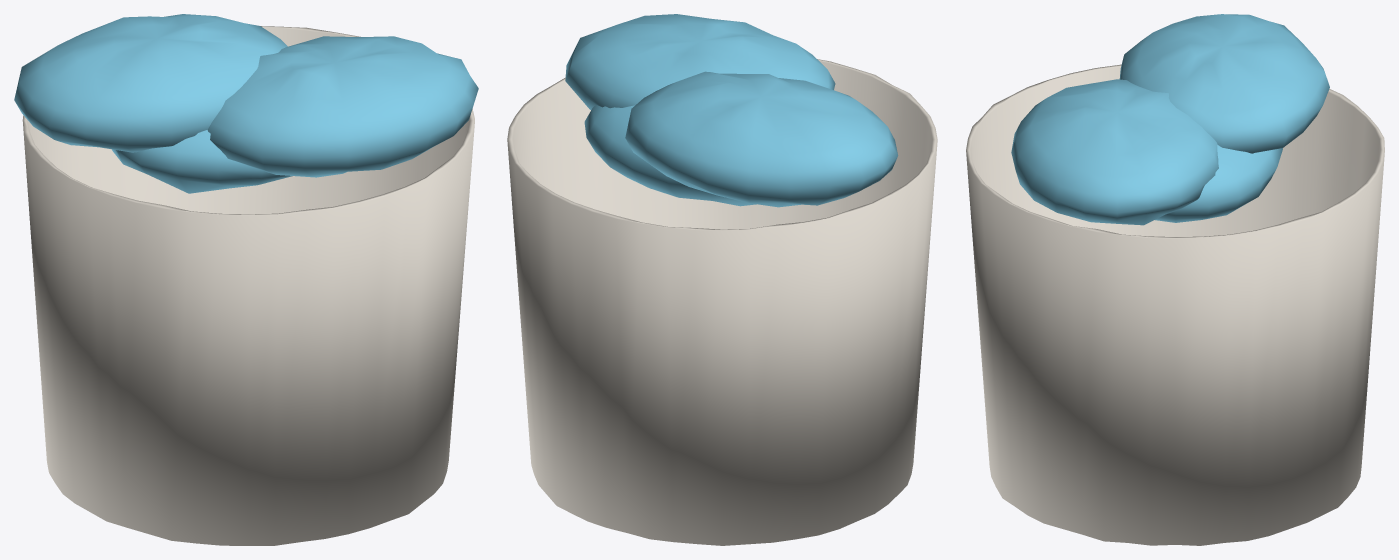
Rendered from decor-laundrybasket.glb.
3 renders of one model, left to right at view 1: azimuth 30°, elevation 25°; view 2: azimuth 150°, elevation 25°; view 3: azimuth 270°, elevation 25°, orthographic. The views are drawn at different scales.
Visible parts, largest first — view 1: LaundryBasket__Basket, LaundryBasket__Towels; view 2: LaundryBasket__Basket, LaundryBasket__Towels; view 3: LaundryBasket__Basket, LaundryBasket__Towels.
Part boxes in pixels (left/top/right/bottom): LaundryBasket__Basket: left=22, top=26, right=474, bottom=545; LaundryBasket__Towels: left=14, top=14, right=478, bottom=193; LaundryBasket__Basket: left=507, top=59, right=937, bottom=545; LaundryBasket__Towels: left=565, top=14, right=898, bottom=207; LaundryBasket__Basket: left=966, top=64, right=1384, bottom=545; LaundryBasket__Towels: left=1011, top=14, right=1329, bottom=225.
Size of the model in its own units: 35.95 by 37.15 by 35.68.
